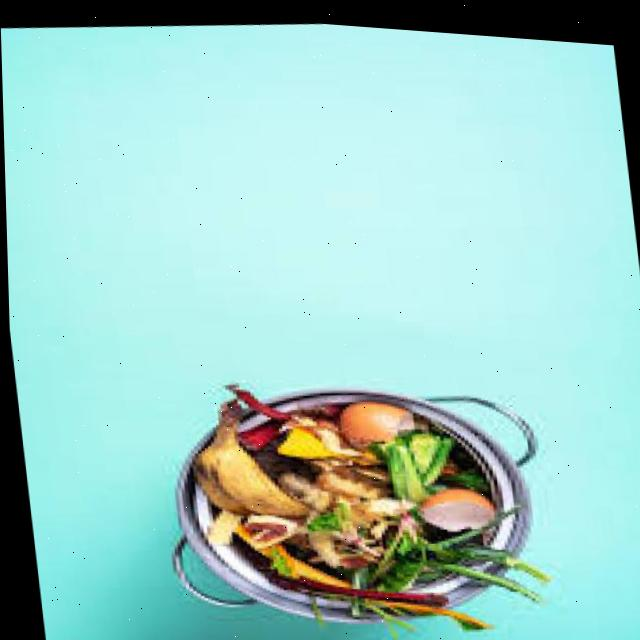Wet: (175, 375, 517, 629)
